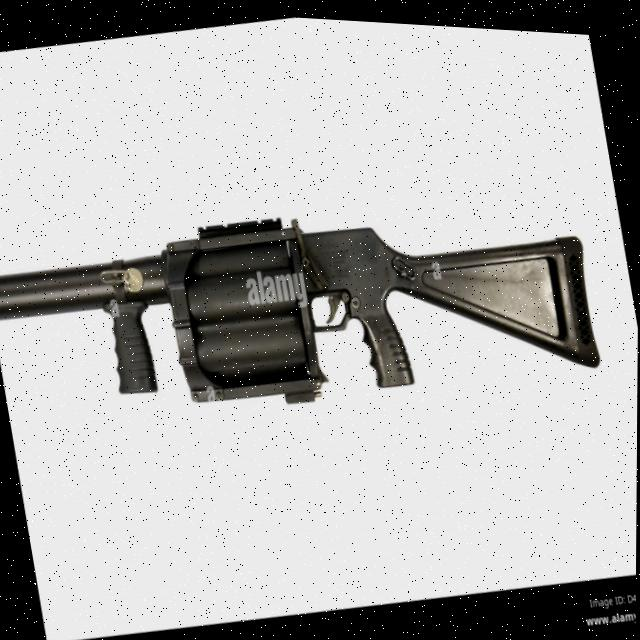rocket: (0, 147, 604, 464)
